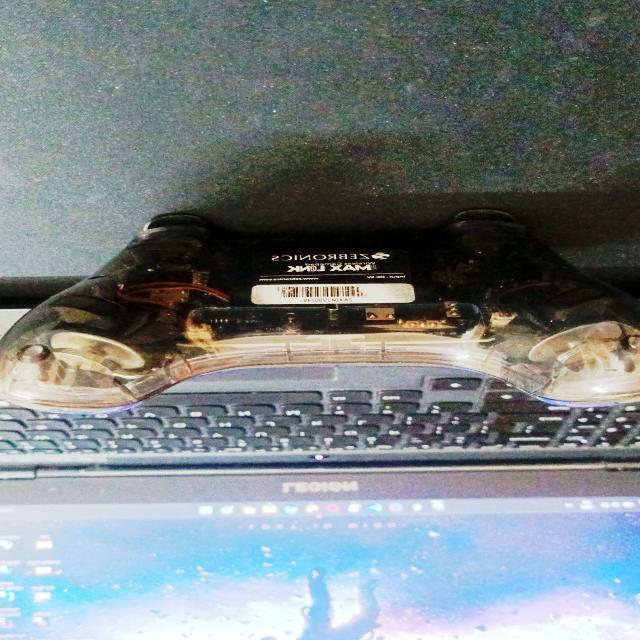gamepad: (0, 208, 640, 415)
